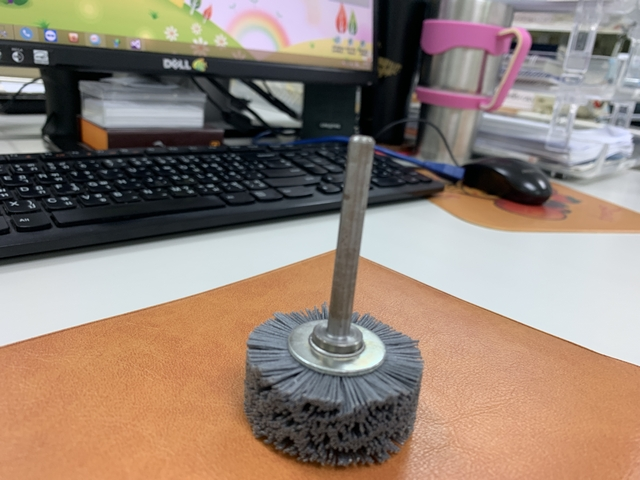Wheel Brush: (250, 127, 433, 472), (237, 143, 365, 467), (235, 280, 437, 472)
